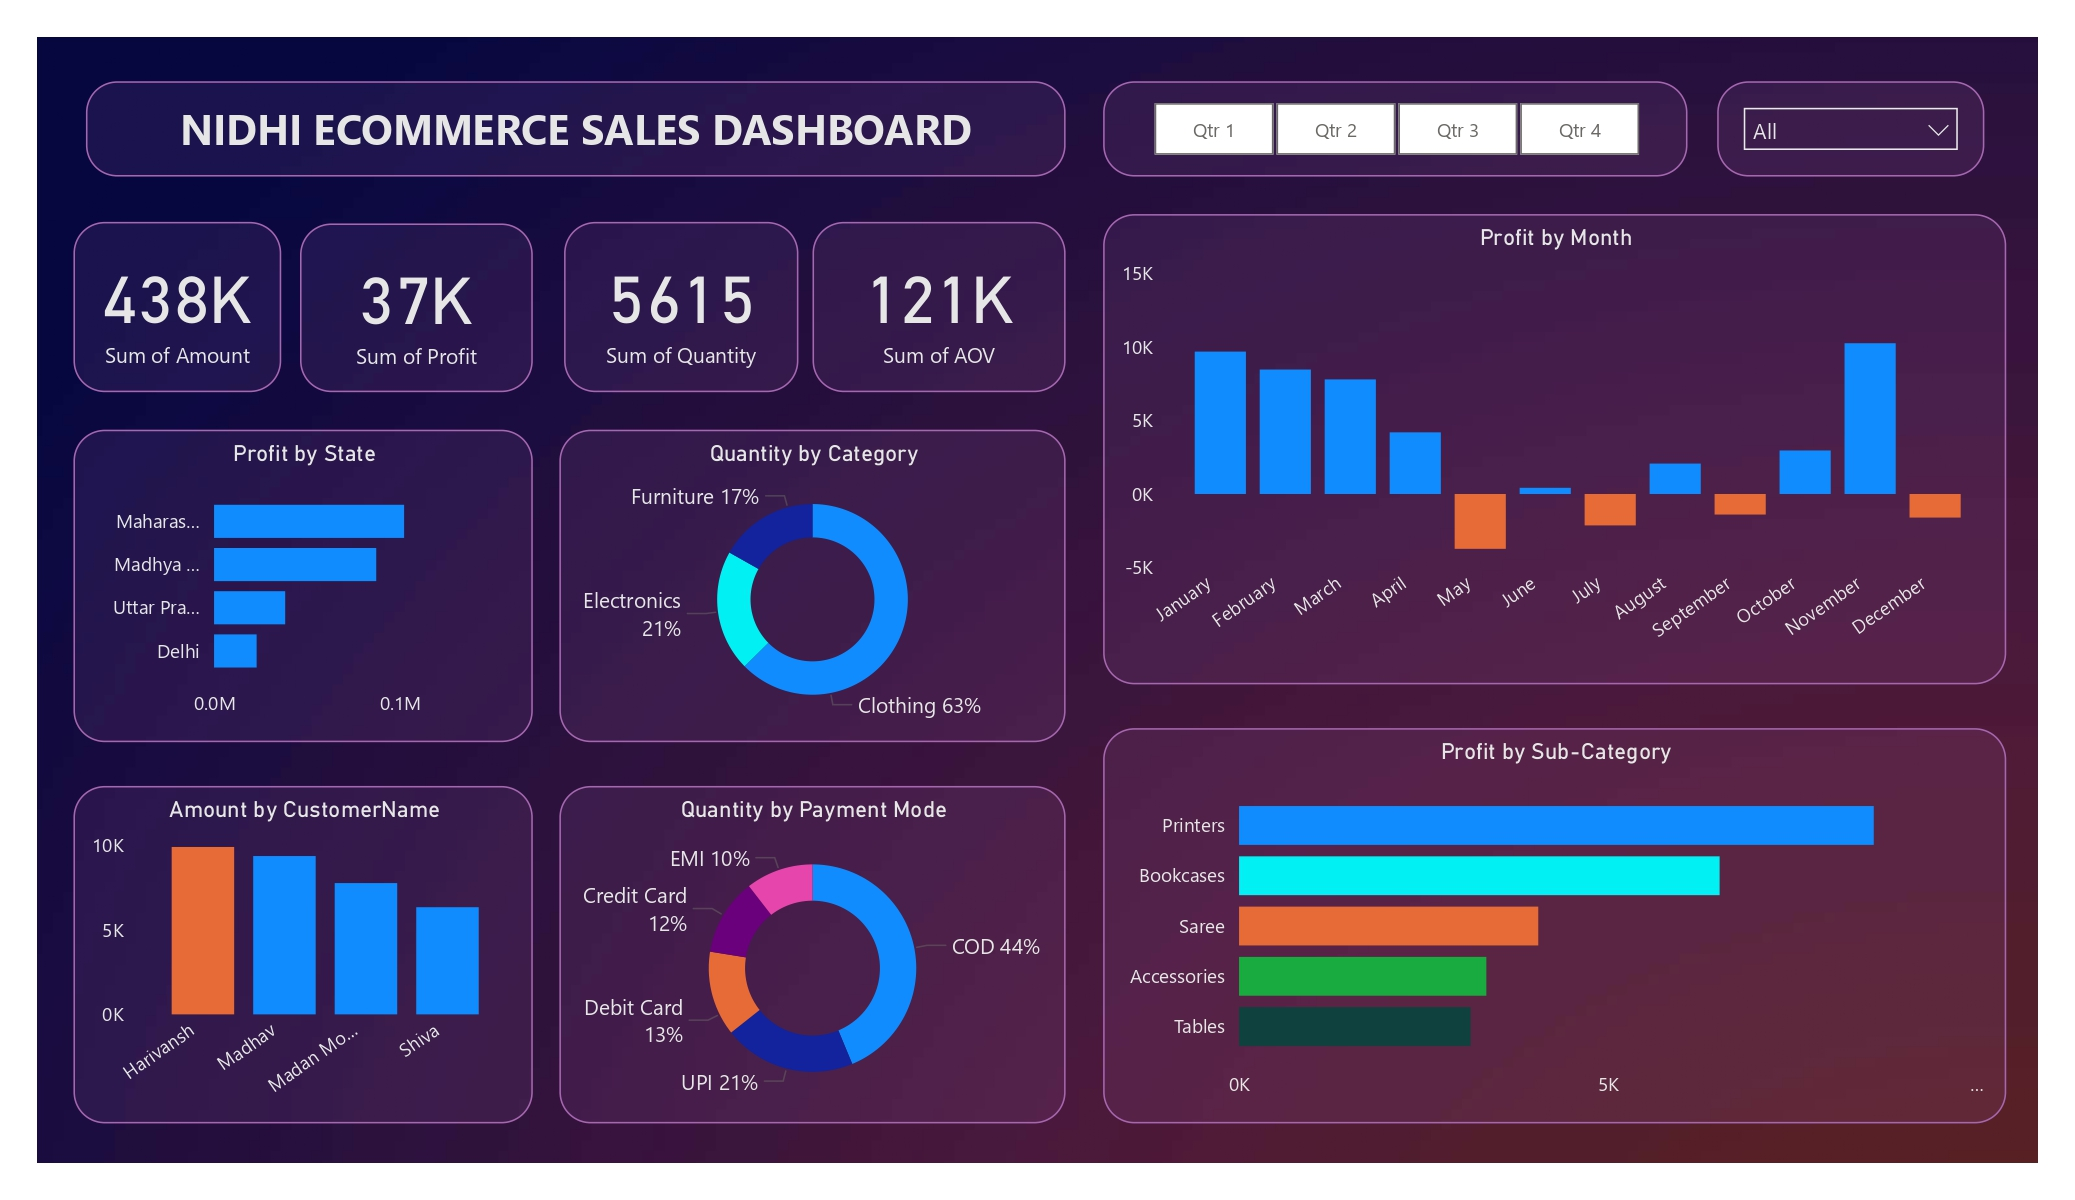

What the dashboard file says about the page in this screenshot:
{"tool":"powerbi","page":{"name":"Page 1","canvas":[1280,720],"ordinal":0},"visuals":[{"type":"textbox","box":[7.5,3.8,695,62.5],"z":0},{"type":"columnChart","title":"Profit by Month","fields":{"Category":["Orders.Order Date.Variation.Date Hierarchy.Month"],"Y":["_Measures.Total Profit"]},"box":[718.8,411.2,552.5,300],"z":1000},{"type":"barChart","title":"Top 5 Sub-Categories by Profit","fields":{"Category":["Details.Sub-Category"],"Y":["_Measures.Total Profit"]},"box":[13.8,193.8,333.8,253.8],"z":2000},{"type":"donutChart","title":"Units Sold by Category","fields":{"Category":["Details.Category"],"Y":["_Measures.Units Sold"]},"box":[13.8,457.5,331.2,253.8],"z":3000},{"type":"donutChart","title":"Units Sold by Payment Mode","fields":{"Category":["Details.PaymentMode"],"Y":["_Measures.Units Sold"]},"box":[357.5,457.5,345,253.8],"z":4000},{"type":"card","fields":{"Values":["_Measures.Total Revenue"]},"box":[13.8,76.2,122.5,106.2],"z":5000},{"type":"card","fields":{"Values":["_Measures.Units Sold"]},"box":[282.5,76.2,128.2,105.9],"z":6000},{"type":"card","fields":{"Values":["_Measures.Total Profit"]},"box":[145,76.2,128.8,106.2],"z":7000},{"type":"card","fields":{"Values":["_Measures.AOV"]},"box":[421.2,76.2,137.5,105],"z":8000},{"type":"barChart","title":"Top 5 States by Profit ","fields":{"Category":["Orders.State"],"Y":["_Measures.Total Profit"]},"box":[718.8,140,552.9,262.4],"z":9000},{"type":"slicer","fields":{"Values":["Orders.Order Date.Variation.Date Hierarchy.Quarter"]},"box":[736.2,56.2,353.8,72.5],"z":10000},{"type":"slicer","fields":{"Values":["Orders.State"]},"box":[1100,56.5,171.8,71.8],"z":11000},{"type":"barChart","title":"Bottom 5 Sub-Categories by Profit","fields":{"Category":["Details.Sub-Category"],"Y":["_Measures.Total Profit"]},"box":[357.5,193.8,345,253.8],"z":12000},{"type":"card","fields":{"Values":["_Measures.Profit Margin %"]},"box":[567.5,76.2,145,105],"z":13000},{"type":"textbox","box":[736.5,3.5,529.4,43.5],"z":14000}]}

Visuals, with their boxes in screenshot pixels (x1, y1, x2, y2):
textbox: [left=17, top=28, right=1128, bottom=128]
"Profit by Month" columnChart: [left=1155, top=679, right=2038, bottom=1159]
"Top 5 Sub-Categories by Profit" barChart: [left=27, top=331, right=561, bottom=737]
"Units Sold by Category" donutChart: [left=27, top=753, right=557, bottom=1159]
"Units Sold by Payment Mode" donutChart: [left=577, top=753, right=1128, bottom=1159]
card - _Measures.Total Revenue: [left=27, top=143, right=223, bottom=313]
card - _Measures.Units Sold: [left=457, top=143, right=662, bottom=313]
card - _Measures.Total Profit: [left=237, top=143, right=443, bottom=313]
card - _Measures.AOV: [left=679, top=143, right=899, bottom=311]
"Top 5 States by Profit " barChart: [left=1155, top=245, right=2038, bottom=665]
slicer - Orders.Order Date.Variation.Date Hierarchy.Quarter: [left=1182, top=111, right=1748, bottom=227]
slicer - Orders.State: [left=1764, top=112, right=2039, bottom=227]
"Bottom 5 Sub-Categories by Profit" barChart: [left=577, top=331, right=1128, bottom=737]
card - _Measures.Profit Margin %: [left=913, top=143, right=1144, bottom=311]
textbox: [left=1183, top=27, right=2029, bottom=97]
